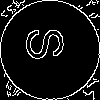S: (25, 25, 74, 62)
